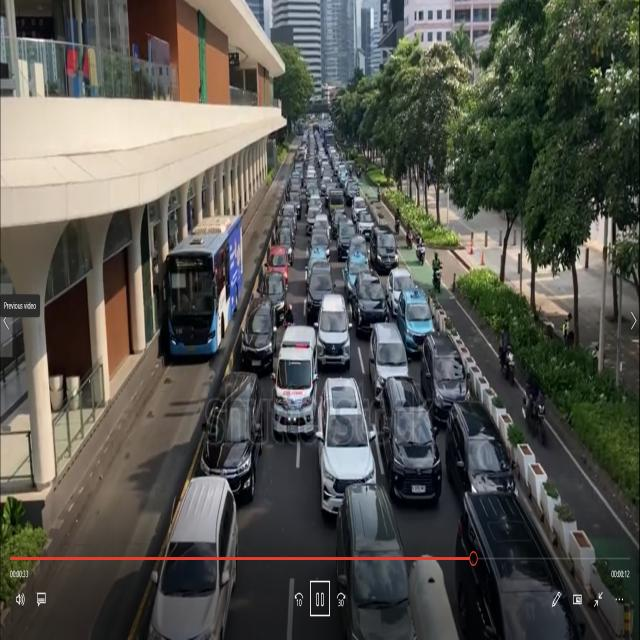Ambulance: (271, 319, 320, 450)
